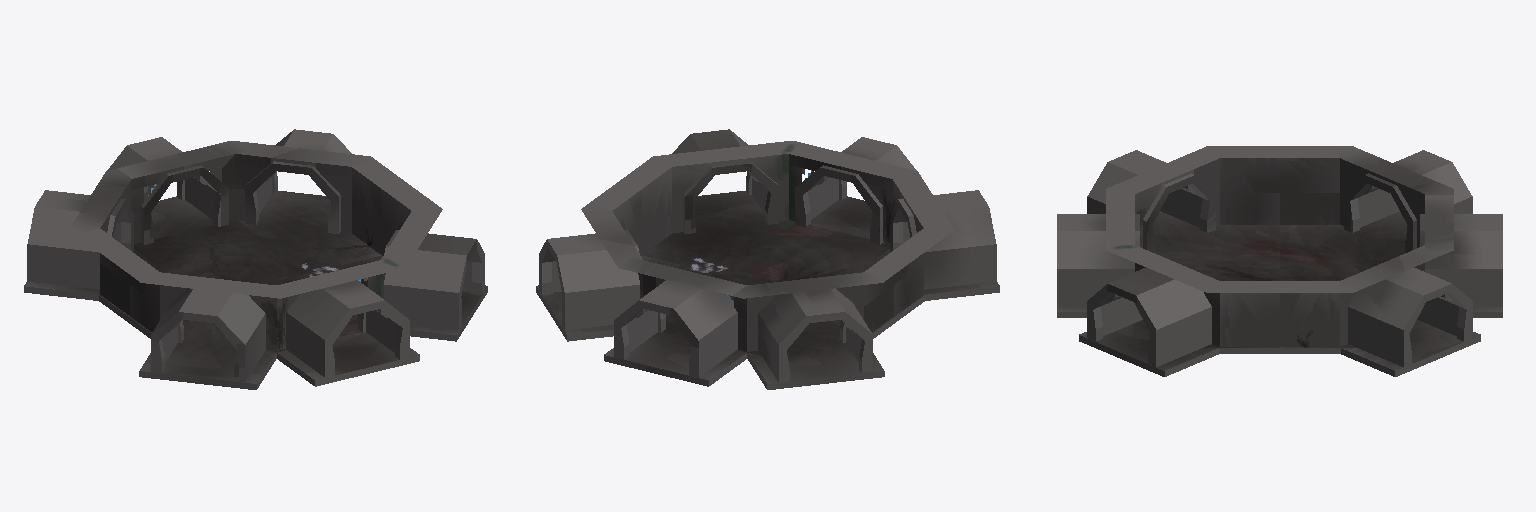
3 views of the same model, side by side, from view 1: azimuth 30°, elevation 25°; view 2: azimuth 150°, elevation 25°; view 3: azimuth 270°, elevation 25° (orthographic).
Parts seen in each view (by area): view 1: tube, cylinder; view 2: tube, cylinder; view 3: tube, cylinder.
Part boxes in pixels (left/top/right/bottom): tube: left=27, top=129, right=484, bottom=382; cylinder: left=24, top=191, right=487, bottom=389; tube: left=539, top=129, right=996, bottom=382; cylinder: left=536, top=191, right=999, bottom=389; tube: left=1057, top=146, right=1502, bottom=366; cylinder: left=1057, top=211, right=1502, bottom=376.
Bounding box in the file's own units: 7.21 × 1.44 × 8.
1 materials, 1 textured.